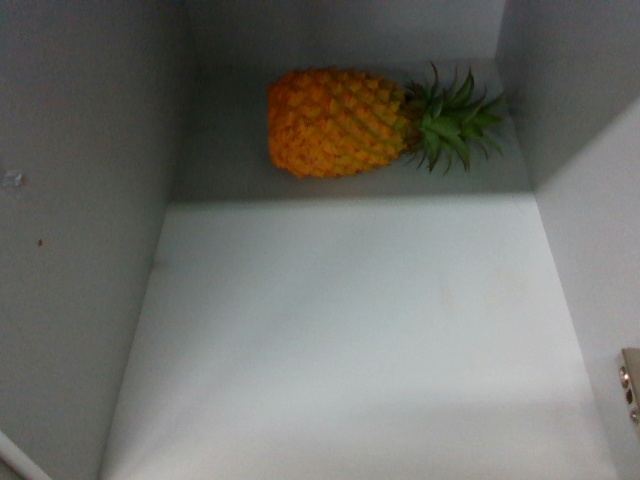pineapple: (256, 63, 518, 180)
